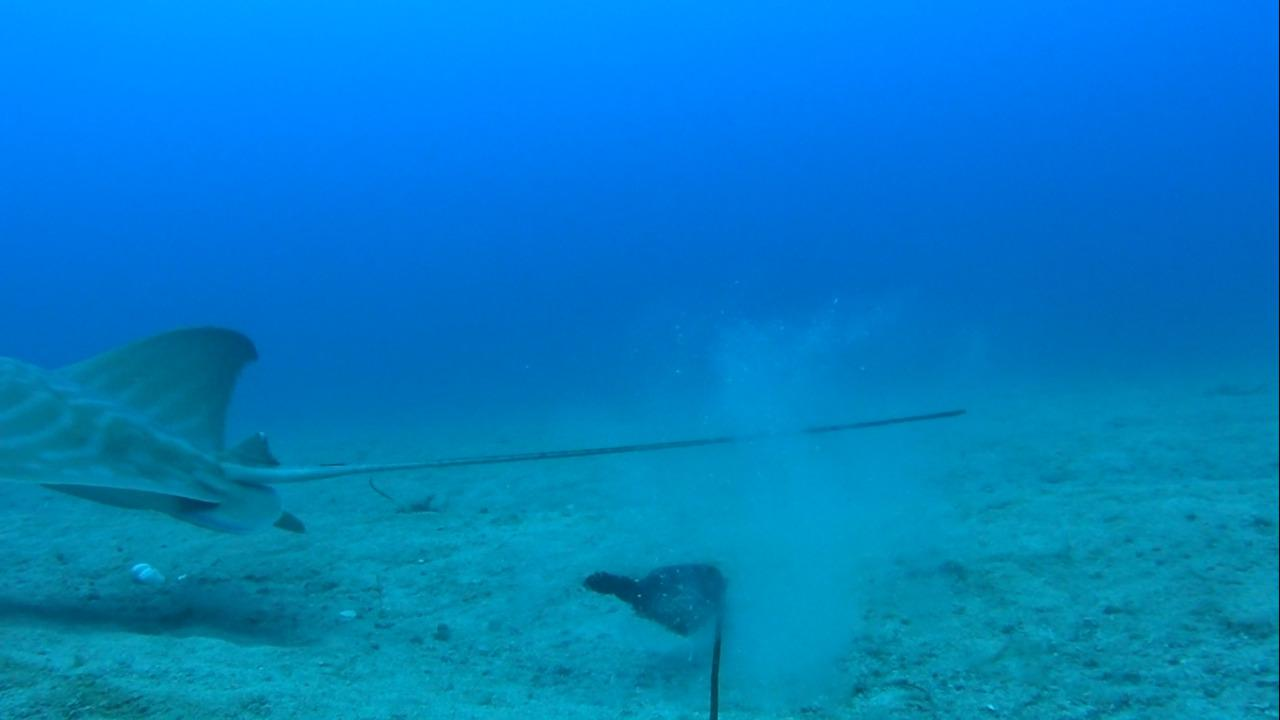myliobatis: (11, 321, 972, 560)
